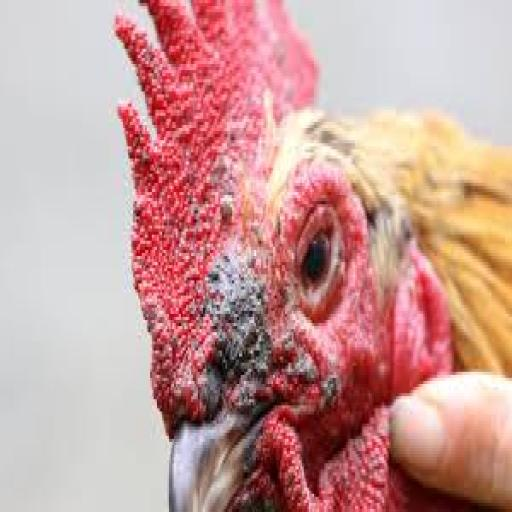disease: (185, 232, 348, 467), (194, 146, 253, 244)
